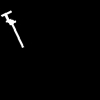double_crochet: (1, 11, 23, 46)
